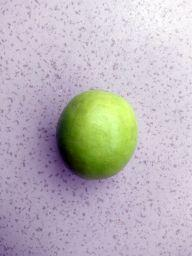lemon: (41, 58, 163, 195)
